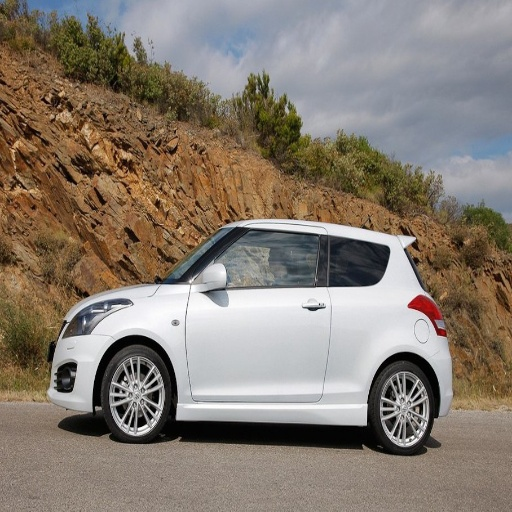back_left_door: (322, 236, 361, 395)
front_left_door: (186, 226, 330, 399)
